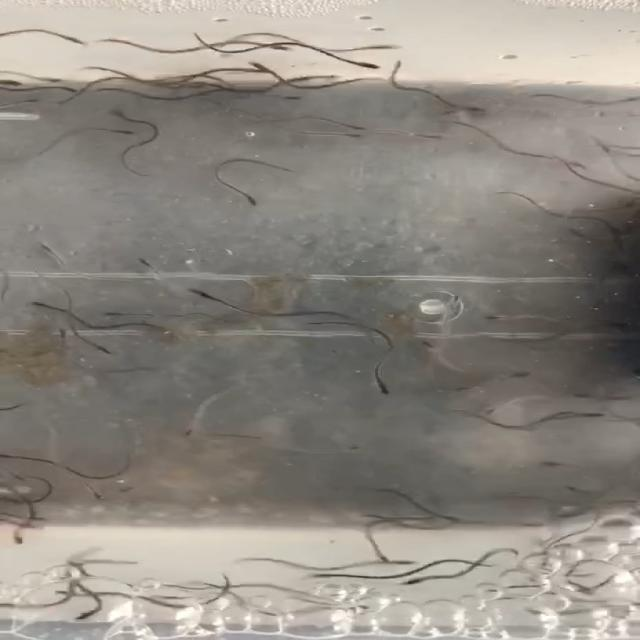active_glass_eel: (331, 596, 388, 614), (447, 102, 502, 119), (360, 40, 416, 56), (242, 57, 284, 78), (232, 188, 267, 213), (363, 377, 399, 401), (340, 56, 384, 75), (430, 294, 474, 312), (0, 513, 51, 528), (105, 126, 152, 142), (3, 526, 33, 550), (417, 337, 448, 359), (54, 32, 94, 49), (296, 568, 341, 583), (172, 78, 214, 94), (267, 90, 311, 105), (478, 402, 512, 421), (34, 68, 71, 85), (336, 441, 380, 455), (46, 81, 82, 98), (100, 106, 134, 123), (558, 157, 594, 173), (531, 456, 567, 472), (33, 238, 63, 257), (78, 482, 105, 503), (71, 606, 102, 624), (18, 96, 54, 111), (189, 289, 225, 304), (249, 41, 297, 52), (571, 408, 605, 423), (43, 584, 77, 599), (399, 577, 438, 590), (333, 132, 375, 144), (404, 131, 446, 143), (50, 326, 74, 347), (0, 74, 31, 90), (502, 367, 535, 382), (177, 420, 200, 441), (132, 255, 162, 271), (103, 306, 137, 320), (20, 300, 54, 312), (483, 311, 511, 325), (86, 343, 118, 355), (565, 481, 588, 496), (338, 121, 368, 131), (369, 548, 388, 562)
